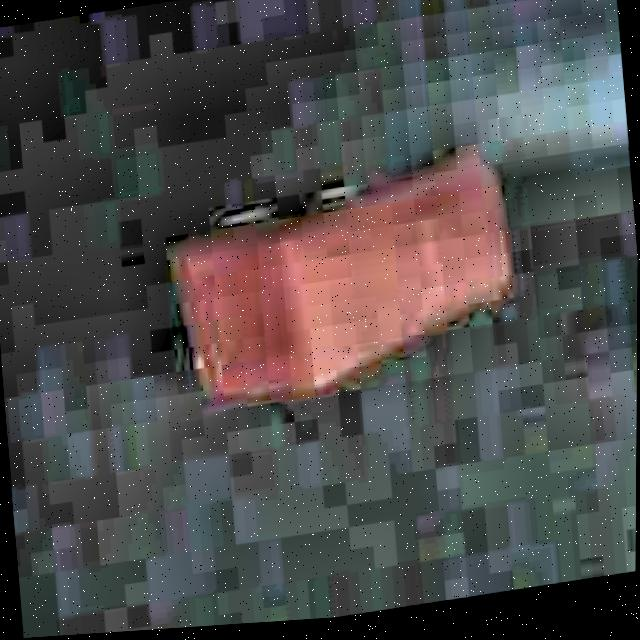bus: (145, 140, 528, 432)
